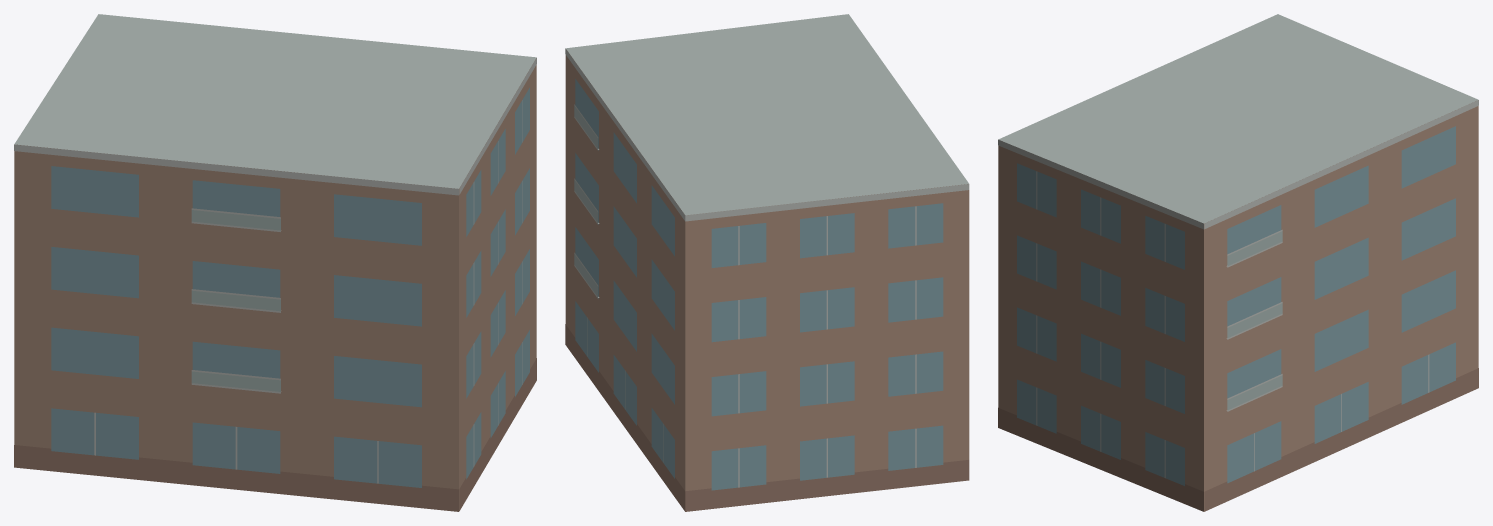
File: survey-upis-32772397.glb
3 renders of one model, left to right at view 1: azimuth 30°, elevation 25°; view 2: azimuth 150°, elevation 25°; view 3: azimuth 270°, elevation 25°, orthographic. The views are drawn at different scales.
Visible parts, largest first — view 1: survey-upis-32772397.tmp; view 2: survey-upis-32772397.tmp; view 3: survey-upis-32772397.tmp.
Part boxes in pixels (x1,y1,x2,y2): survey-upis-32772397.tmp: (14, 14, 536, 511); survey-upis-32772397.tmp: (565, 14, 969, 511); survey-upis-32772397.tmp: (998, 14, 1478, 511).
Size of the model in its own units: 18.4 by 11.8 by 17.84.
